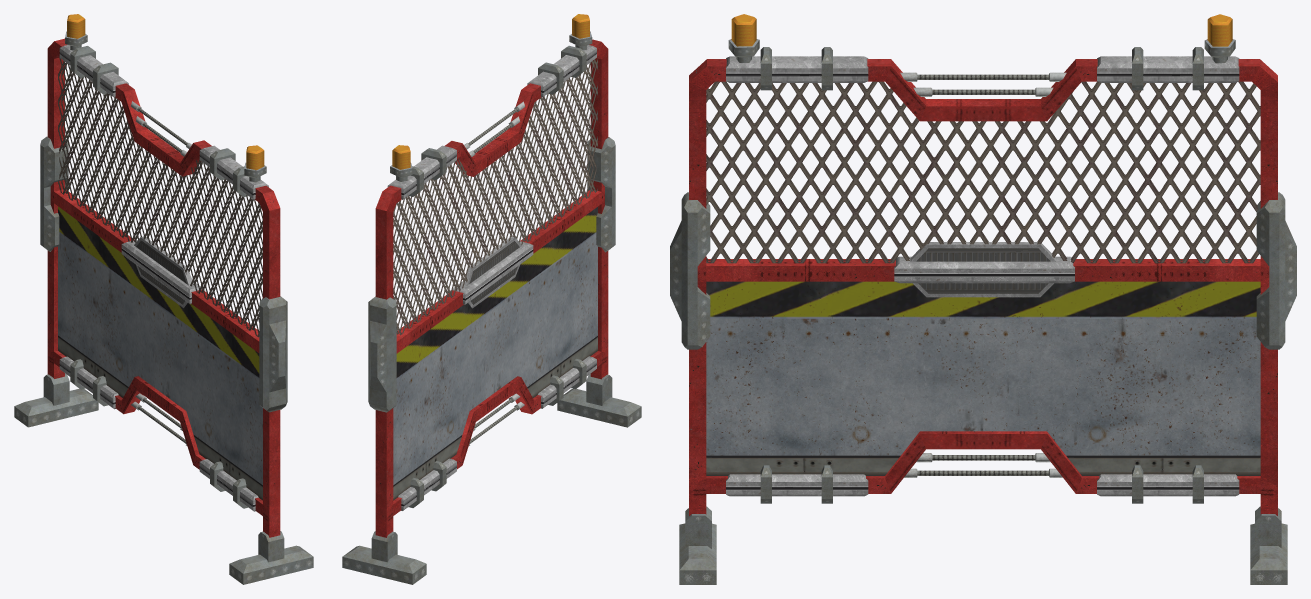
Rendered from Ob_StandingWall2_RC.fbx.
The picture shows the model from 3 angles, left to right: view 1: azimuth 30°, elevation 25°; view 2: azimuth 150°, elevation 25°; view 3: azimuth 270°, elevation 25°; orthographic projection. The views are drawn at different scales.
Parts seen in each view (by area): view 1: Ob_StandingWall2_RC; view 2: Ob_StandingWall2_RC; view 3: Ob_StandingWall2_RC.
Part boxes in pixels (<box>): Ob_StandingWall2_RC: <box>14,14,313,584</box>; Ob_StandingWall2_RC: <box>342,14,641,584</box>; Ob_StandingWall2_RC: <box>670,14,1296,584</box>.
Bounding box in the file's own units: 80.8 × 450 × 470.
